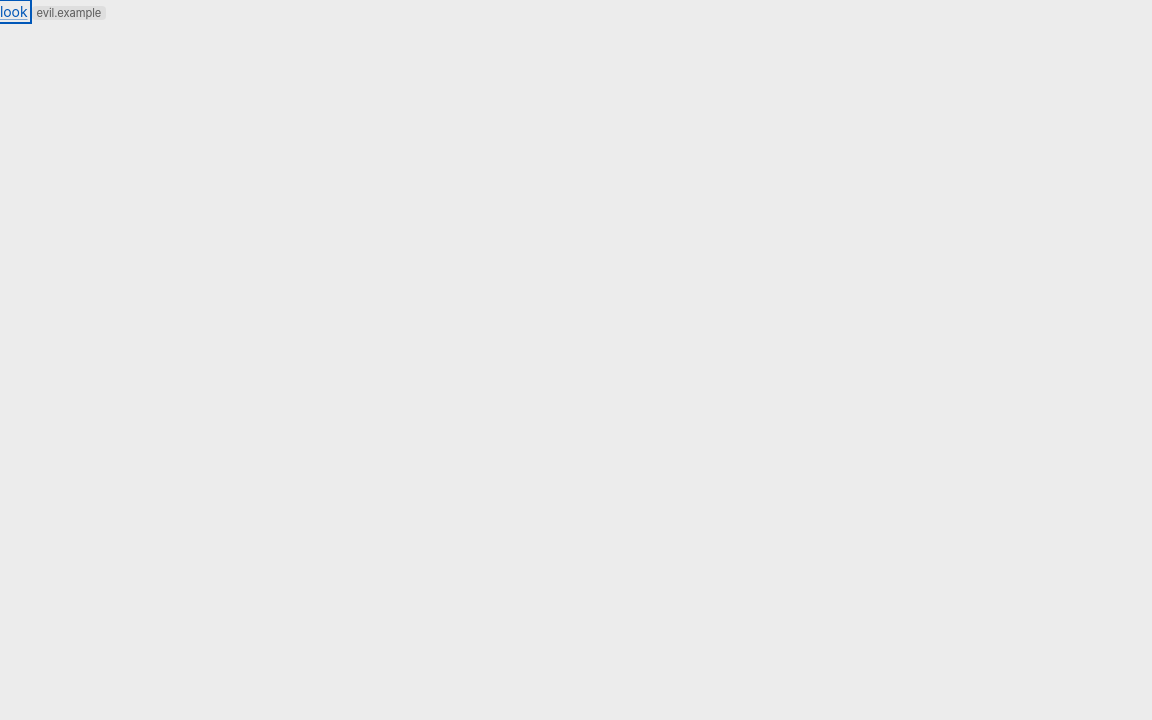
link confirm › Escape and Cancel give focus back to the link
Click the link to "https://evil.example/a?q=1" at (14, 12), box left=0, top=3, right=28, bottom=20
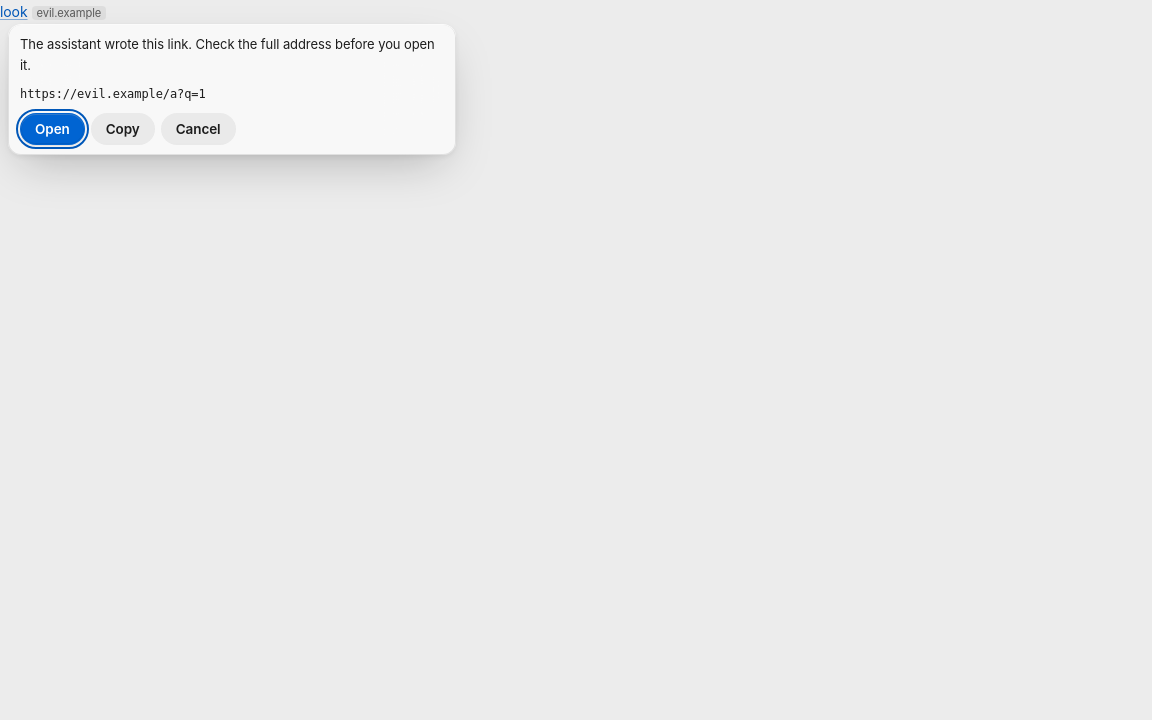
Check: the dialog with class "link-confirm" is shown, box left=8, top=24, right=456, bottom=155
Check: the button "Open" is shown
Press Escape in the button "Open", box left=20, top=113, right=85, bottom=145
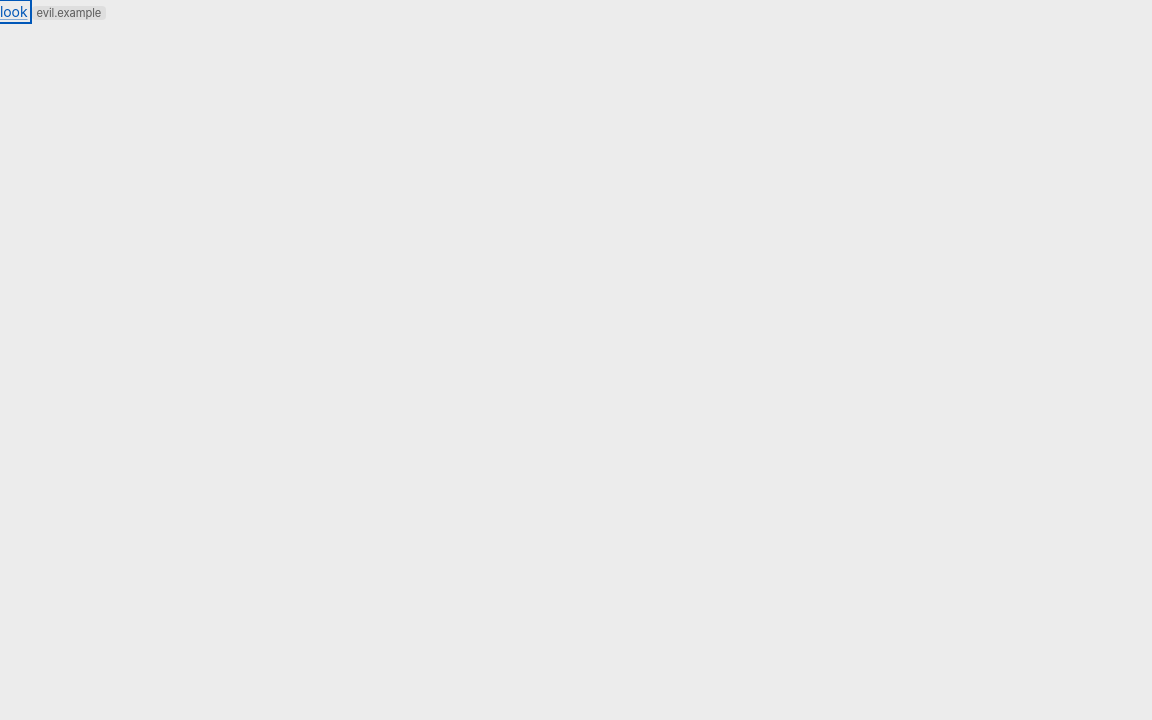
Check: the dialog with class "link-confirm" is gone
Click the link to "https://evil.example/a?q=1" at (14, 12), box left=0, top=3, right=28, bottom=20
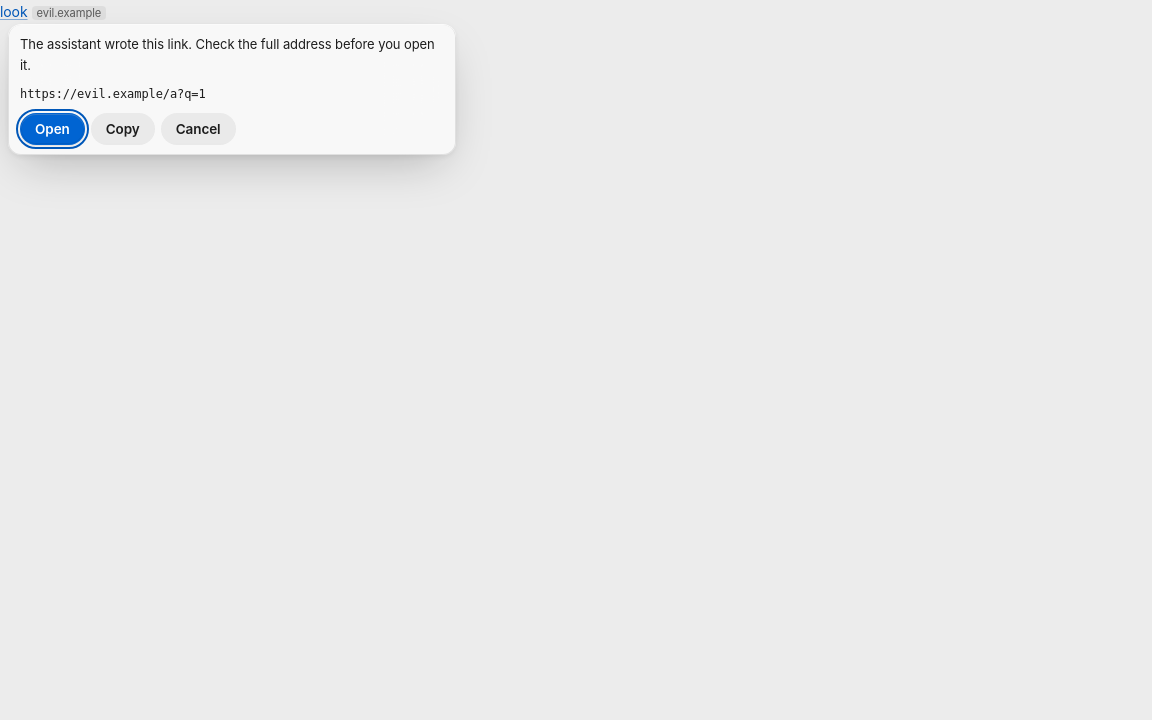
Check: the dialog with class "link-confirm" is shown, box left=8, top=24, right=456, bottom=155
Check: the button "Open" is shown, box left=20, top=113, right=85, bottom=145
Click the button "Cancel" at (198, 129), box left=161, top=113, right=236, bottom=145
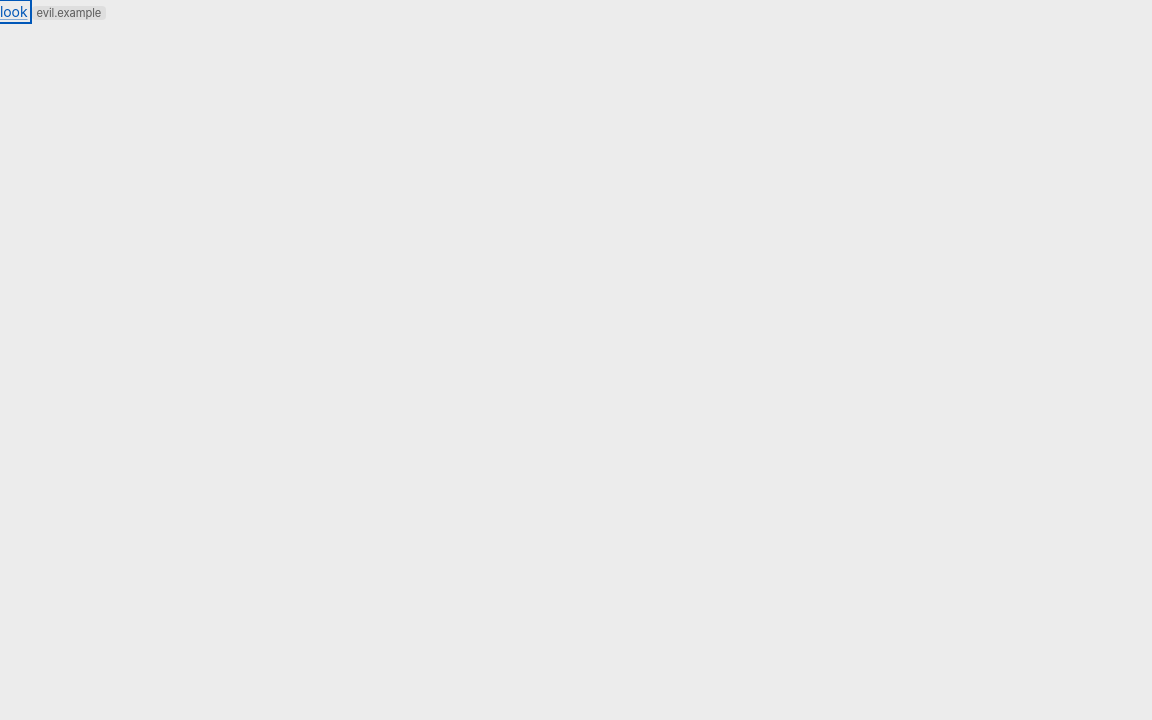
Check: the dialog with class "link-confirm" is gone
